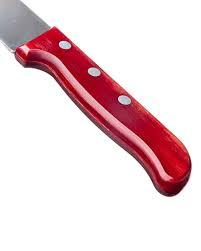Knife: (0, 0, 192, 197)
